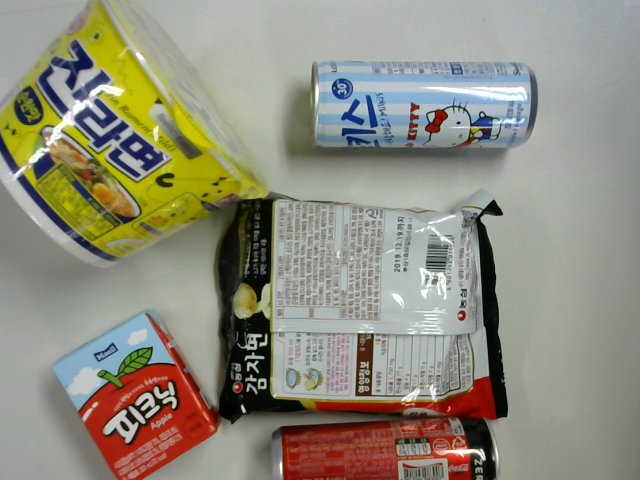Coca_Cola_Zero_Can_250ml: (265, 411, 506, 480)
Jinlamyeon_Mild_Taste_Large_Cup: (1, 1, 274, 279)
Milkies_250ml: (304, 53, 546, 153)
Picnic_Apple: (49, 302, 219, 480)
Potato: (227, 199, 495, 416)
